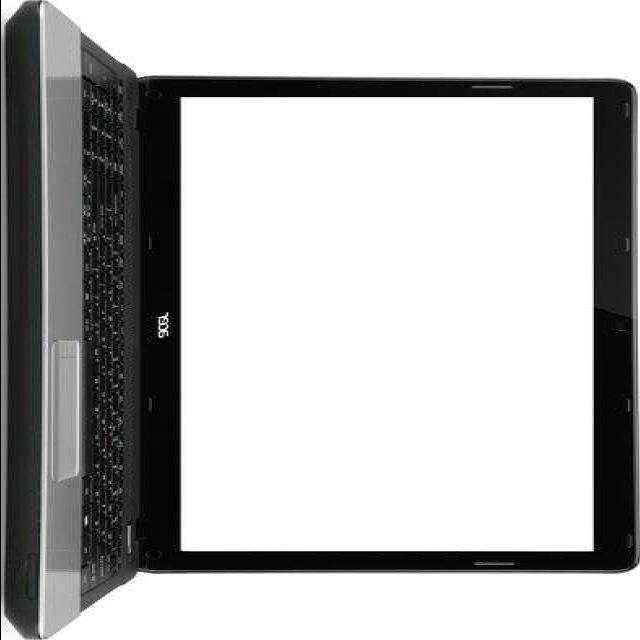laptop: (20, 80, 636, 579)
